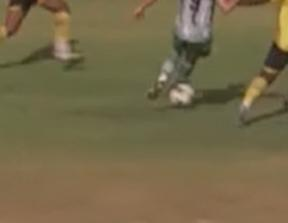ball: (166, 77, 199, 113)
